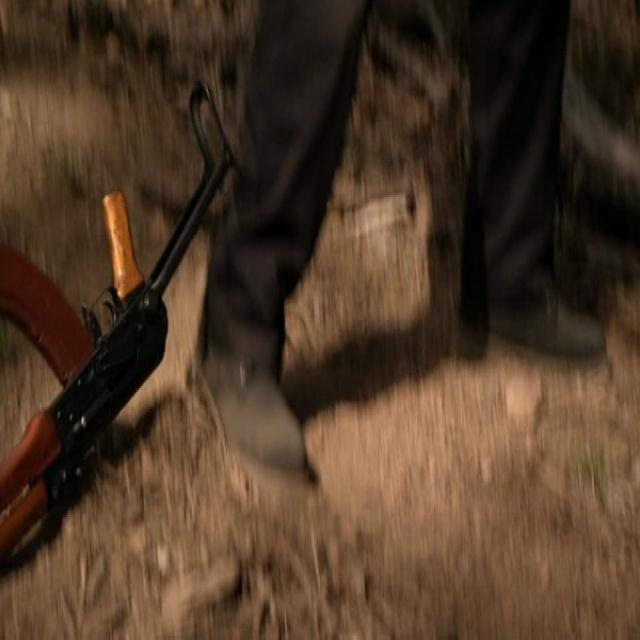rifle: (1, 67, 241, 582)
